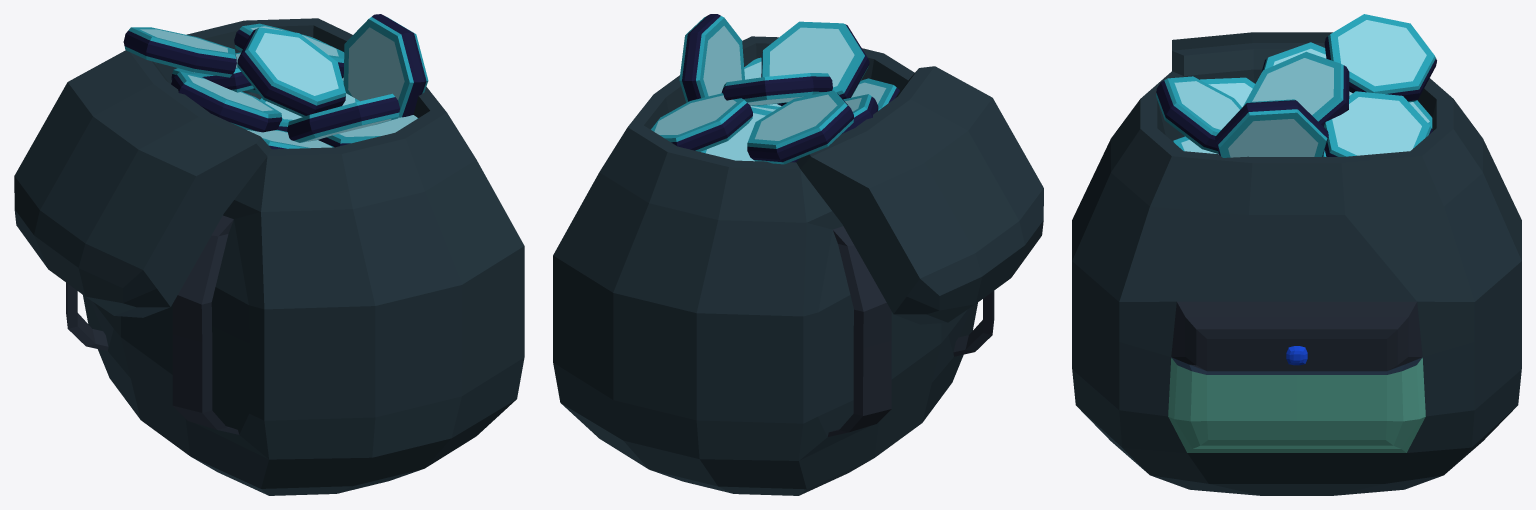
Rendered from Bag.Buckles.fbx.
The picture shows the model from 3 angles, left to right: view 1: azimuth 30°, elevation 25°; view 2: azimuth 150°, elevation 25°; view 3: azimuth 270°, elevation 25°; orthographic projection. The views are drawn at different scales.
Parts seen in each view (by area): view 1: Bag.Buckles; view 2: Bag.Buckles; view 3: Bag.Buckles.
Part boxes in pixels (x1=…): Bag.Buckles: x1=14, y1=14, x2=524, y2=495; Bag.Buckles: x1=553, y1=14, x2=1043, y2=495; Bag.Buckles: x1=1072, y1=14, x2=1521, y2=495.
Size of the model in its own units: 70.39 by 65.86 by 68.84.
